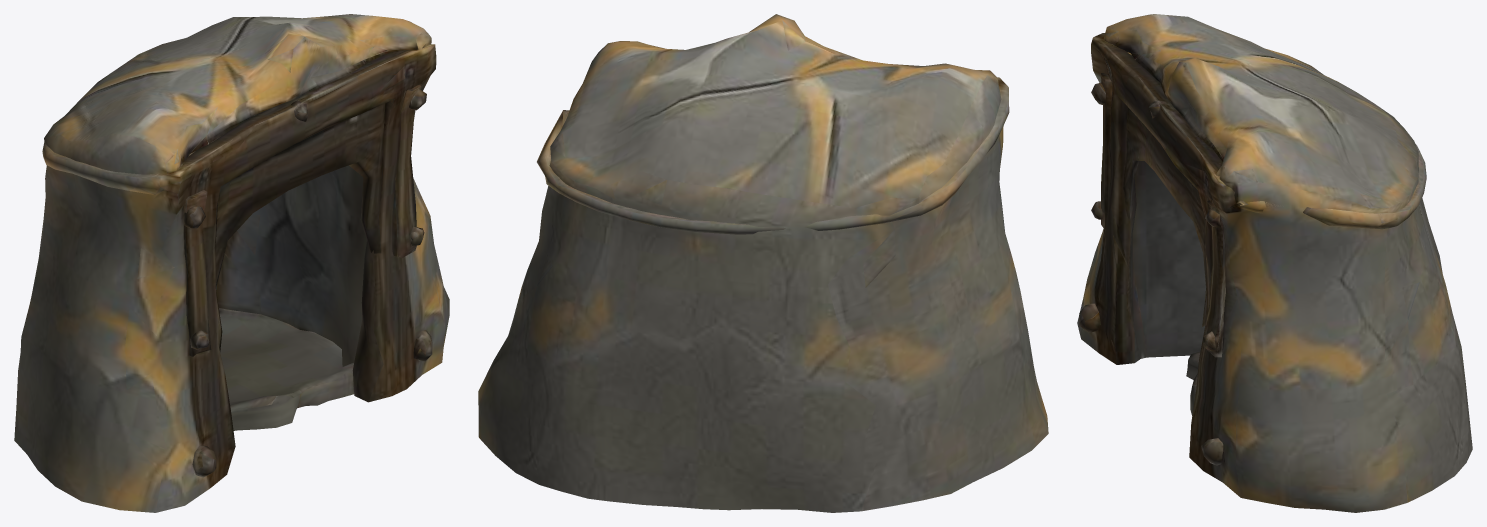
Rendered from mt_boca_galeria.glb.
3 renders of one model, left to right at view 1: azimuth 30°, elevation 25°; view 2: azimuth 150°, elevation 25°; view 3: azimuth 270°, elevation 25°, orthographic. The views are drawn at different scales.
Parts seen in each view (by area): view 1: Mesh_0; view 2: Mesh_0; view 3: Mesh_0.
Boxes of the visible parts, x1=… form: Mesh_0: x1=14, y1=14, x2=449, y2=512; Mesh_0: x1=478, y1=14, x2=1048, y2=512; Mesh_0: x1=1077, y1=14, x2=1472, y2=512.
Size of the model in its own units: 0.2412 by 0.1963 by 0.1948.
1 material, 1 textured.
